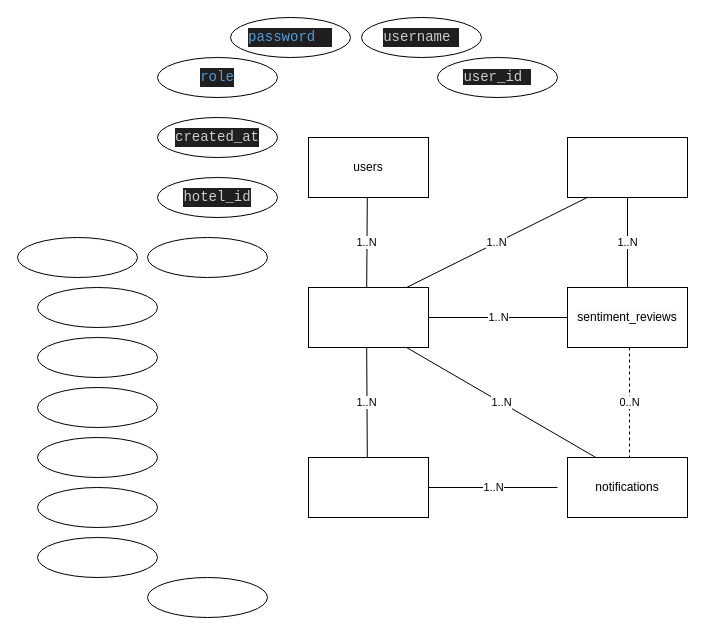
The diagram is 705 pixels wide and 635 high, and some of its shapes have lost their labels. The centre of each missing label's shape, as x and y in pixels:
hotel_reviews: the point at 627,167
hotels: the point at 368,317
telegram_users: the point at 368,487
